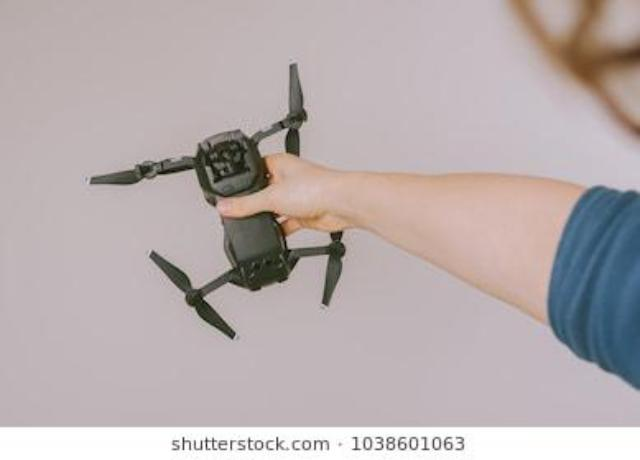drone: (0, 71, 640, 460)
